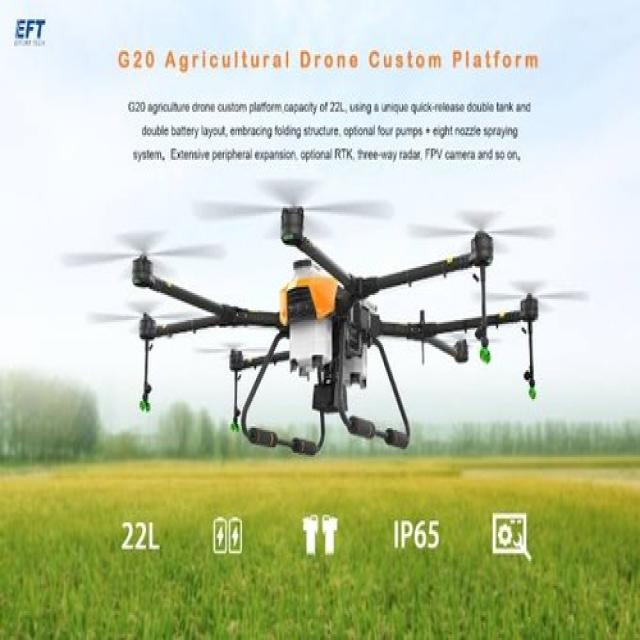drone: (109, 182, 574, 468)
